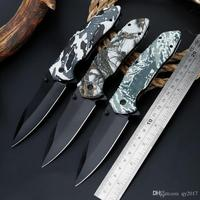knife: (8, 5, 181, 192)
